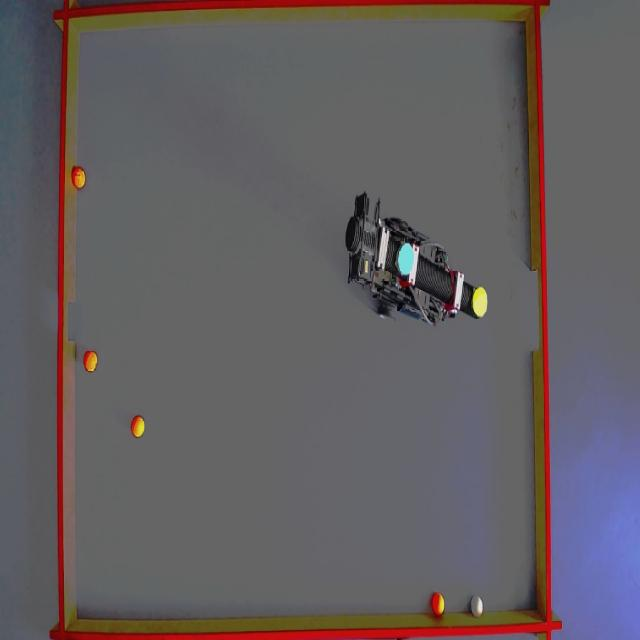orange: (131, 415, 146, 438), (73, 168, 88, 188), (85, 352, 98, 373), (434, 593, 446, 615)
robot: (338, 198, 495, 328)
robot-front: (472, 284, 490, 316)
robot-rear: (397, 244, 414, 278)
white: (472, 596, 486, 616)
